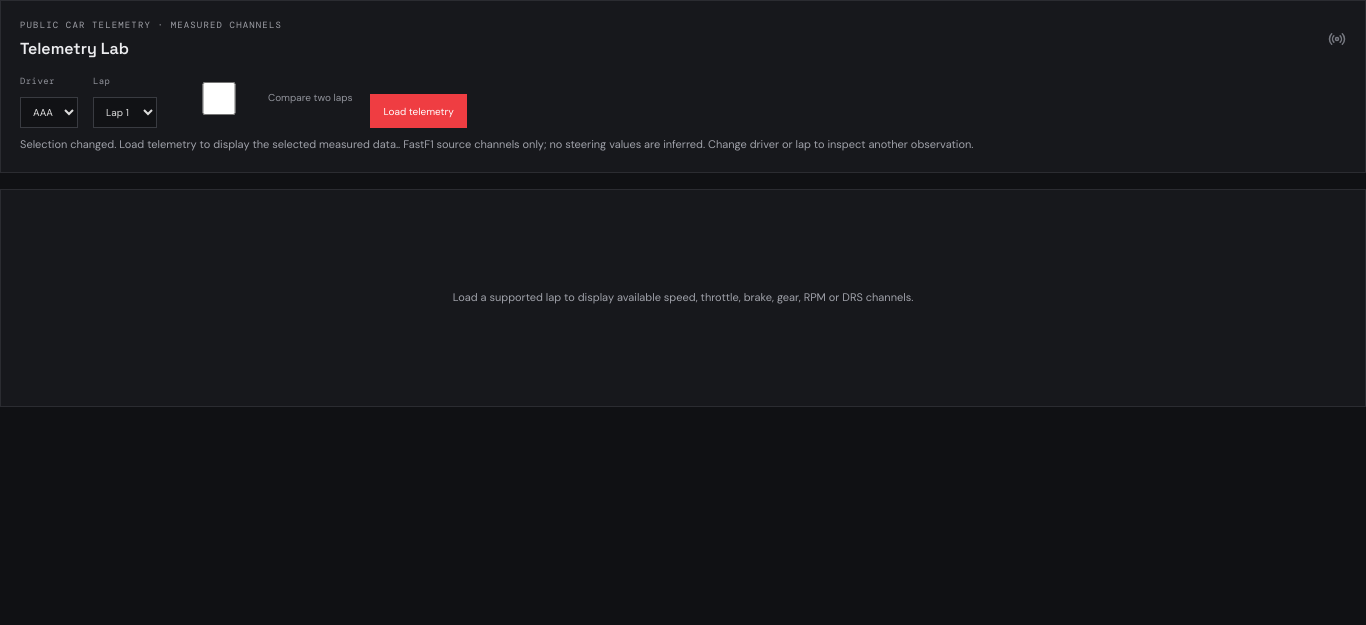
Test: TelemetryLab › loads measured channels then compares laps with time and sector deltas
Click the button "Load telemetry" at [419, 111], box top-left (370, 94), bottom-right (467, 128)
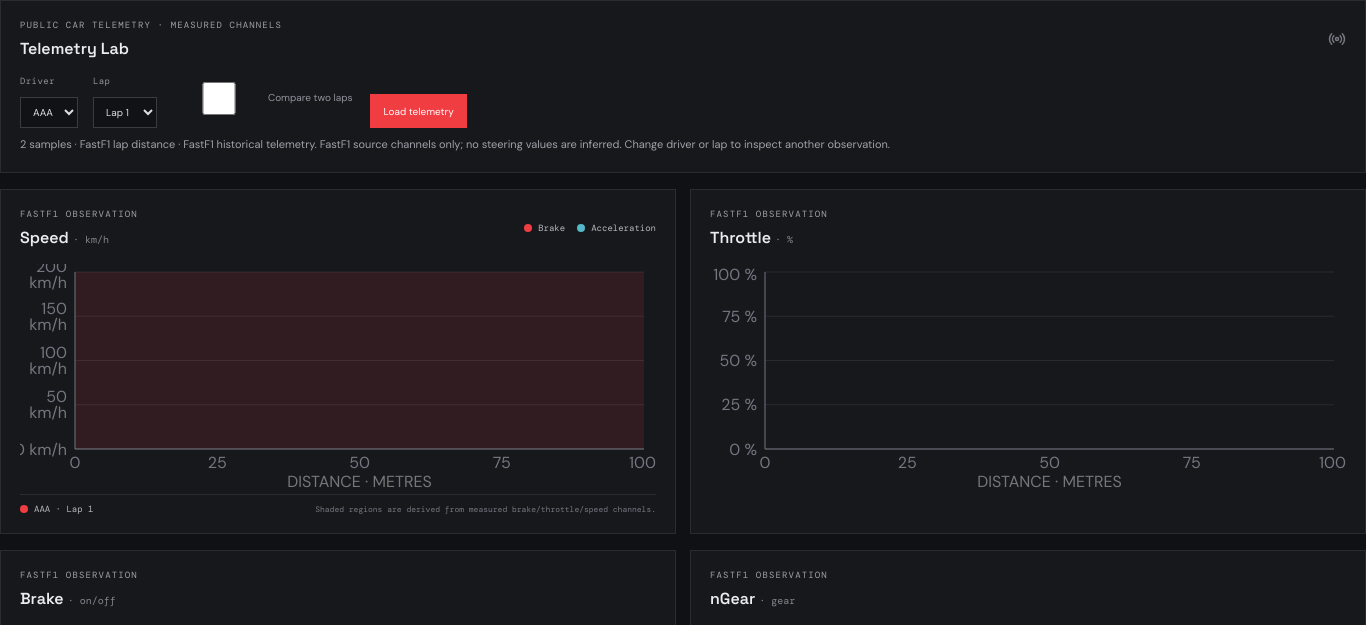
Now the heading "Speed · km/h" is shown, box top-left (20, 227), bottom-right (109, 248)
Now the text "samples · FastF1 lap distance" is shown, box top-left (20, 137), bottom-right (315, 151)
Click the checkbox labelled "Compare two laps" at [219, 98], box top-left (179, 82), bottom-right (259, 115)
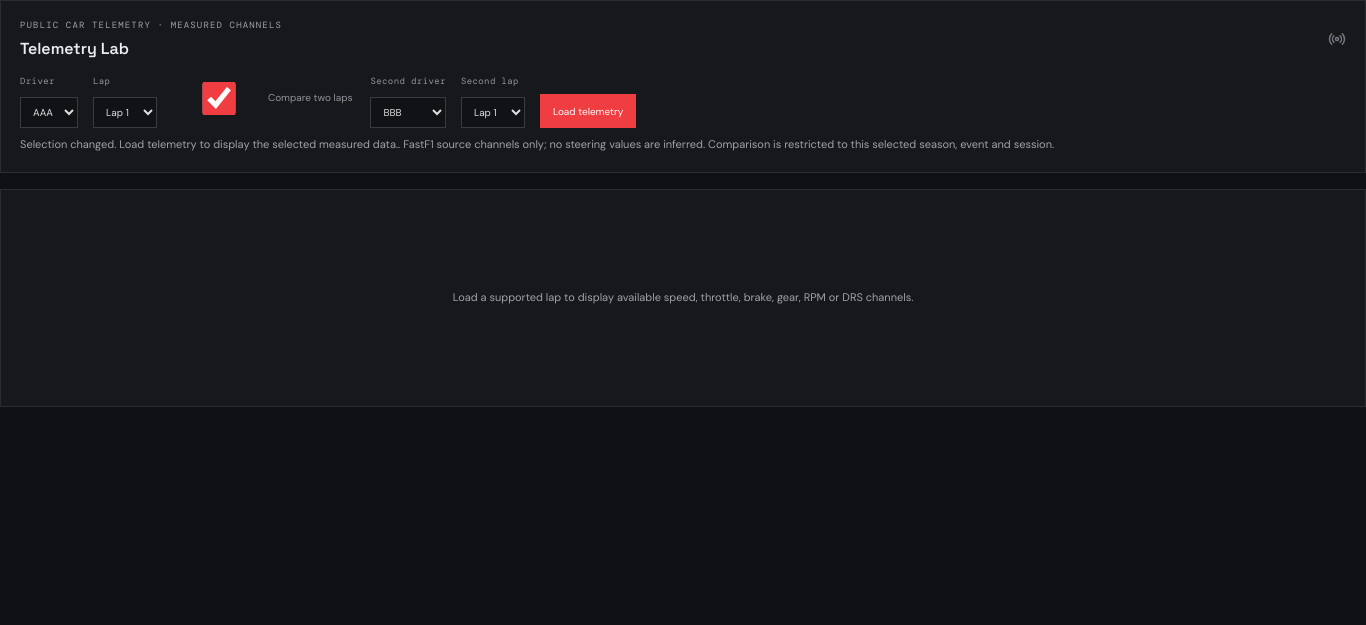
Click the button "Load telemetry" at [588, 111], box top-left (540, 94), bottom-right (636, 128)
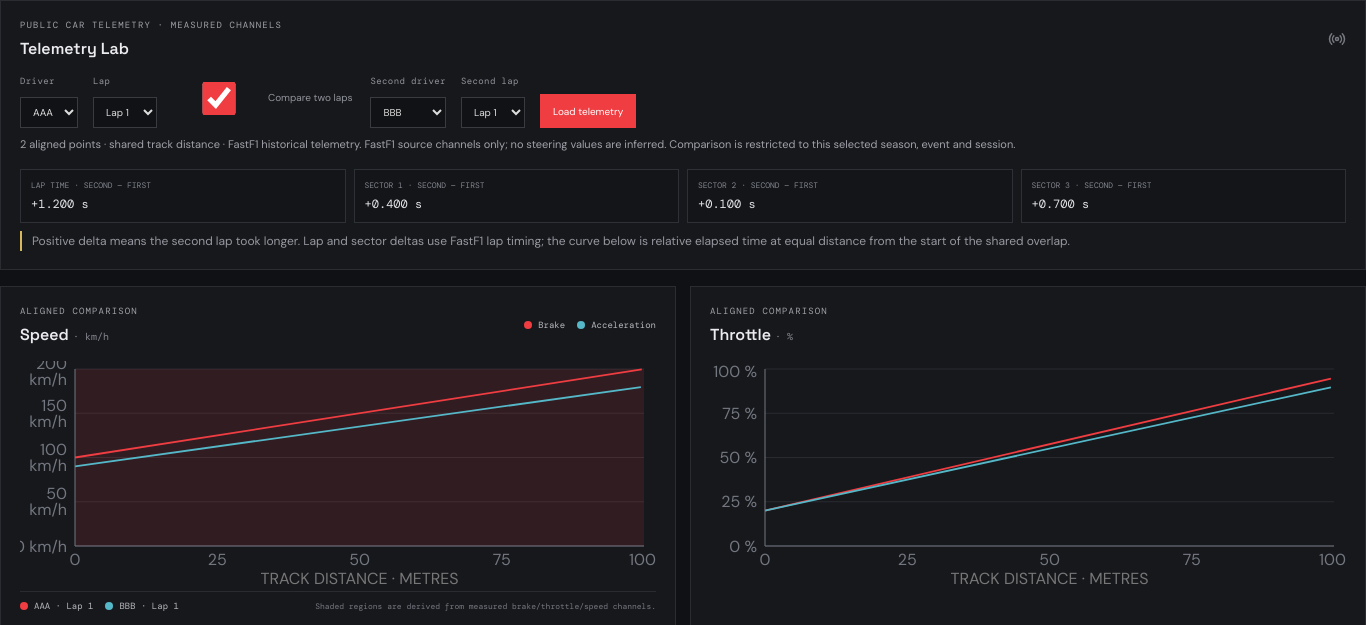
Now the text "+1.200 s" is shown, box top-left (31, 196), bottom-right (89, 212)
Now the text "+0.400 s" is shown, box top-left (364, 196), bottom-right (422, 212)
